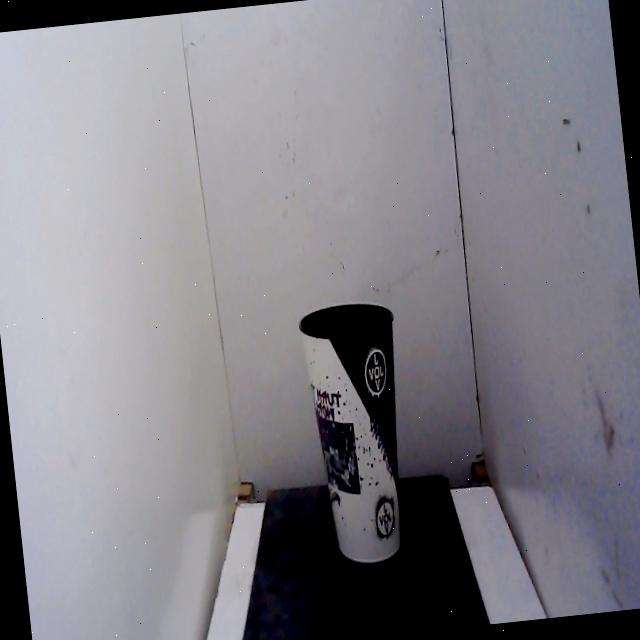plastico: (292, 287, 424, 580)
